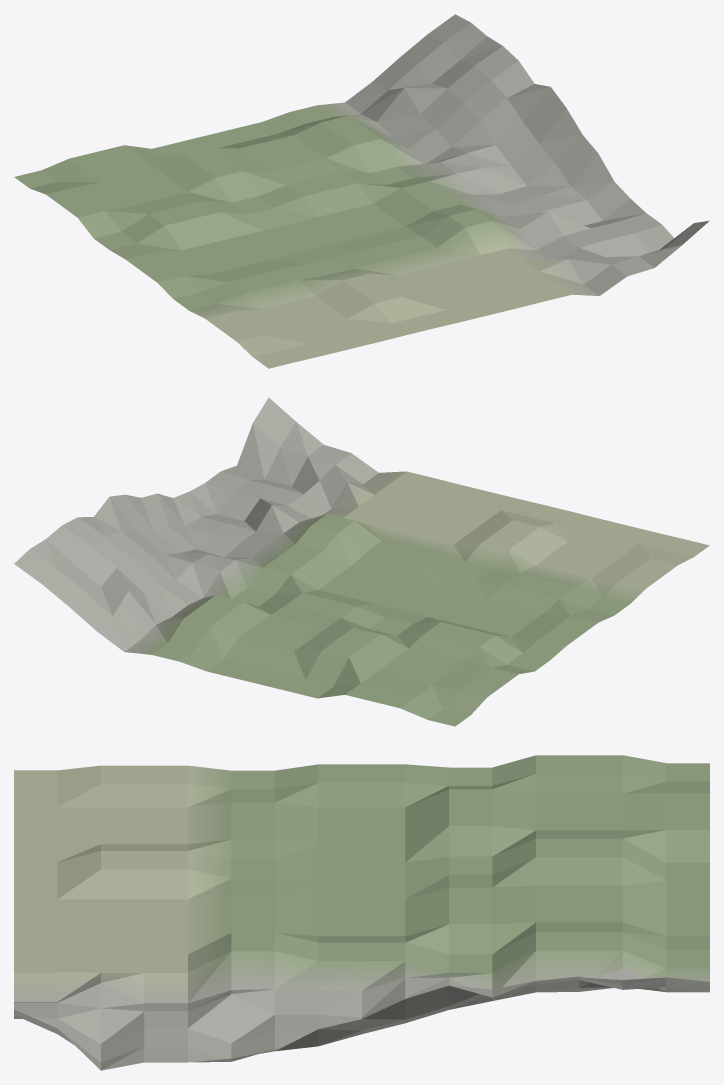
3 views of the same model, one above another, from view 1: azimuth 30°, elevation 25°; view 2: azimuth 150°, elevation 25°; view 3: azimuth 270°, elevation 25° (orthographic). The views are drawn at different scales.
Size of the model in its own units: 32 by 5.24 by 32.
